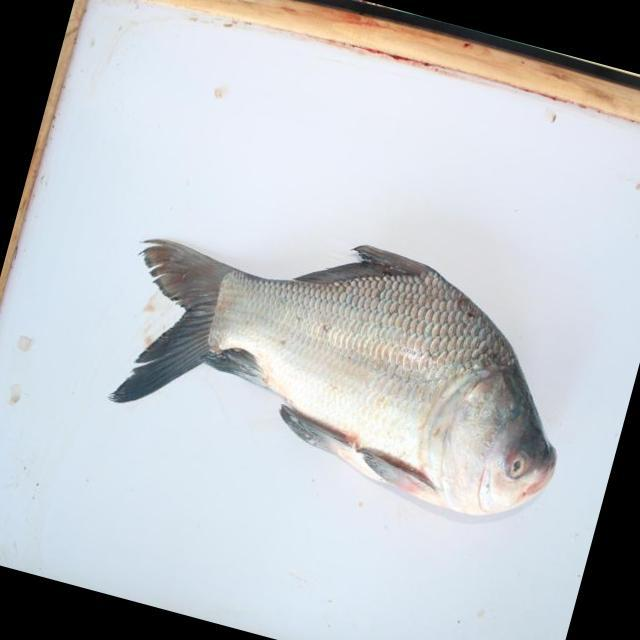Catla: (113, 227, 560, 515)
